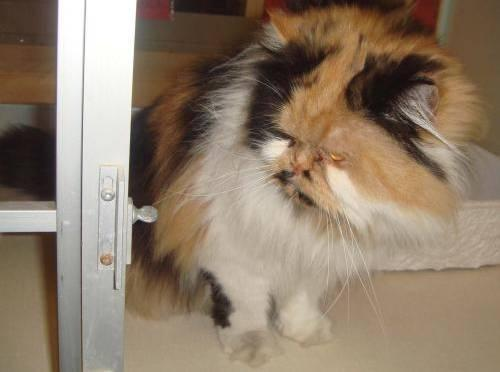cat: (127, 0, 499, 362)
